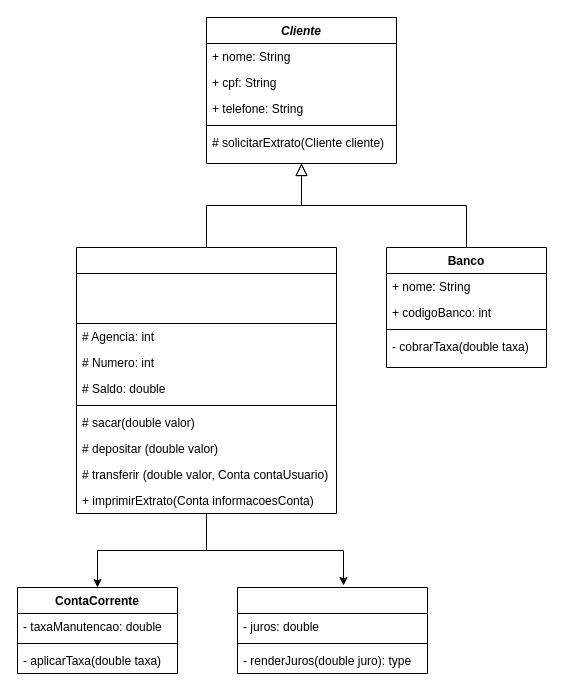
This 564x694 diagram has some shape labels left out. Here are the shapes that lost their labels. From the top down, the box of each, then its label:
(76, 272, 336, 324): «interface» Conta
(236, 586, 428, 674): ContaPoupanca
